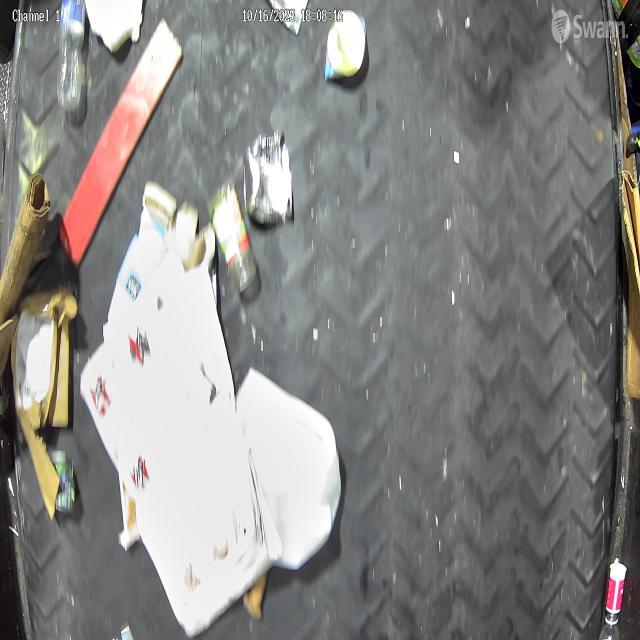milk_jug: (234, 360, 338, 568)
plastic_bottle: (56, 0, 90, 111)
